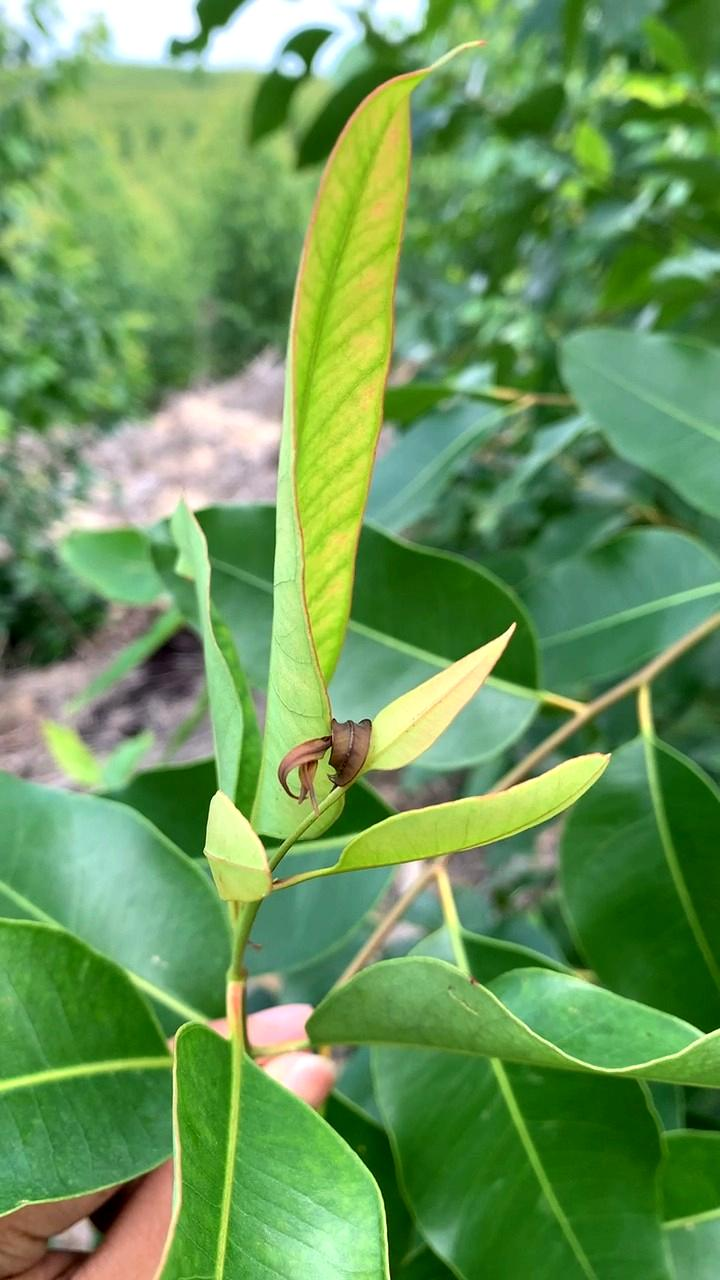Helopeltis-Withered Sprout: (249, 693, 388, 837)
